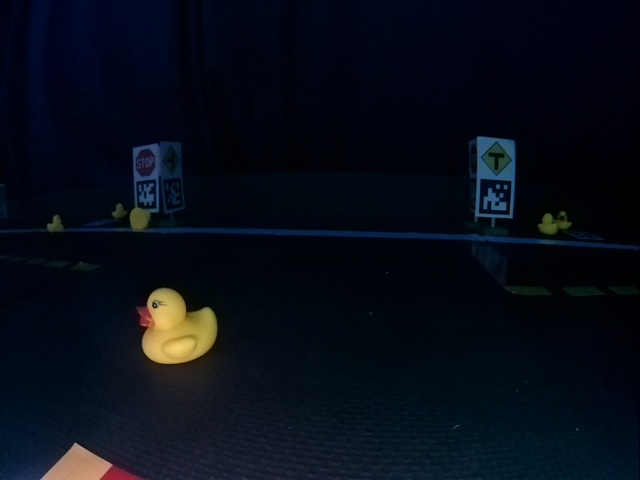Duckie: (137, 289, 215, 360), (537, 213, 557, 235), (130, 208, 150, 229), (554, 212, 572, 231), (47, 215, 64, 232), (111, 203, 126, 217)
Intersection sign: (482, 141, 512, 175), (163, 146, 180, 172)
QR code: (479, 179, 512, 215), (163, 178, 183, 210), (138, 181, 157, 209)
Stop sign: (136, 149, 156, 175)
